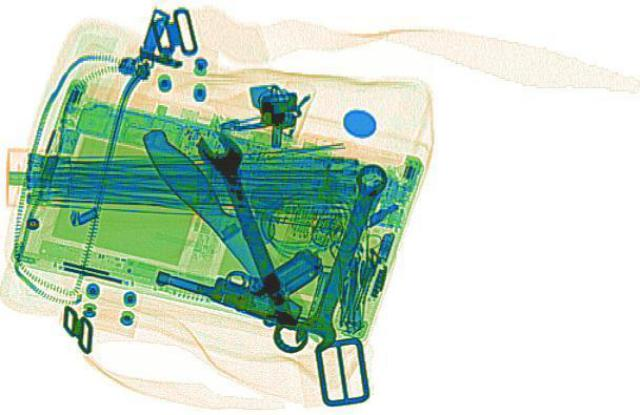Gun: (146, 217, 350, 326)
Knife: (126, 123, 318, 318)
Wrench: (188, 130, 318, 353), (289, 160, 393, 351)
